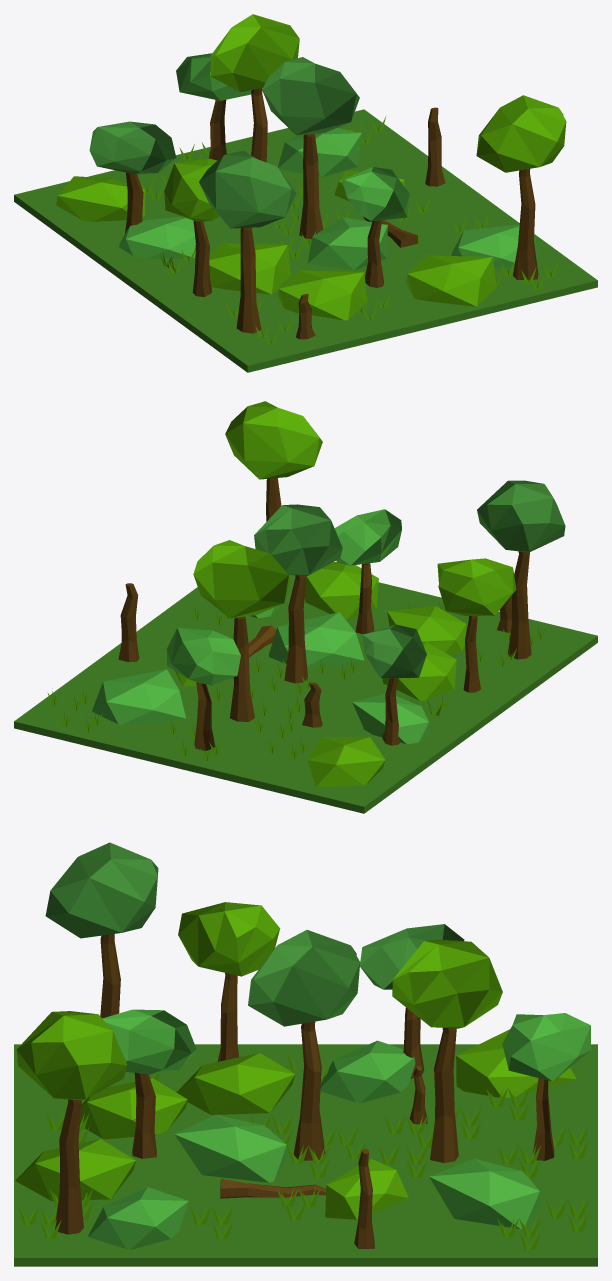
File: trees.glb
The picture shows the model from 3 angles, top to bottom: view 1: azimuth 30°, elevation 25°; view 2: azimuth 150°, elevation 25°; view 3: azimuth 270°, elevation 25°; orthographic projection. The views are drawn at different scales.
Visible parts, largest first — view 1: Box001; view 2: Box001; view 3: Box001.
Boxes of the visible parts, x1,y1,x2,y2 form: Box001: [14, 14, 597, 372]; Box001: [14, 401, 597, 813]; Box001: [14, 842, 597, 1266].
Size of the model in its own units: 4.61 by 2.24 by 5.33.
